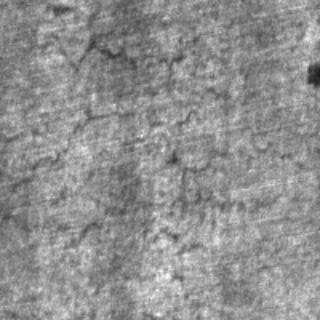crazing: (5, 74, 233, 178), (29, 14, 221, 98), (42, 186, 286, 242)
